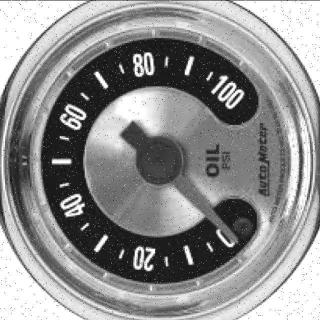gauge: (1, 2, 319, 318), (134, 134, 186, 188), (202, 212, 248, 262), (206, 74, 252, 110), (222, 226, 244, 248)
